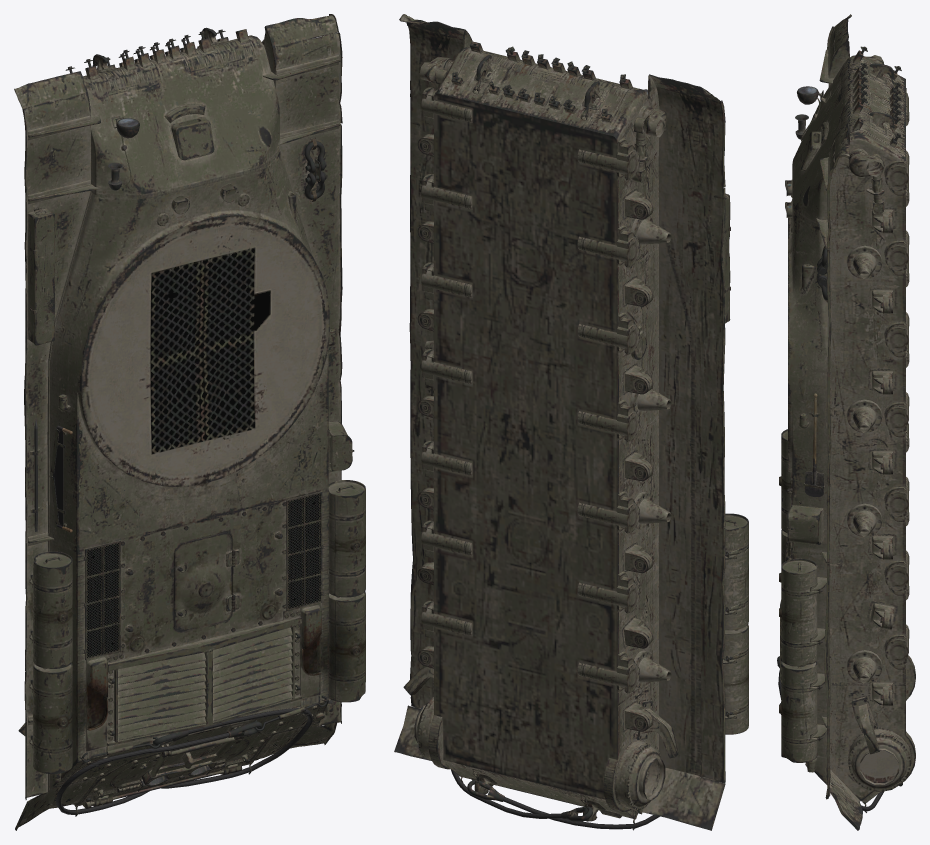
File: Hull.glb
3 views of the same model, side by side, from view 1: azimuth 30°, elevation 25°; view 2: azimuth 150°, elevation 25°; view 3: azimuth 270°, elevation 25° (orthographic). The views are drawn at different scales.
Parts seen in each view (by area): view 1: set_0_group_0; view 2: set_0_group_0; view 3: set_0_group_0.
Boxes of the visible parts, x1=… form: set_0_group_0: x1=14, y1=14, x2=365, y2=830; set_0_group_0: x1=394, y1=14, x2=748, y2=830; set_0_group_0: x1=777, y1=14, x2=915, y2=830.
Size of the model in its own units: 3.44 by 7.64 by 1.38.
Materials: 1 (1 with a texture image).
